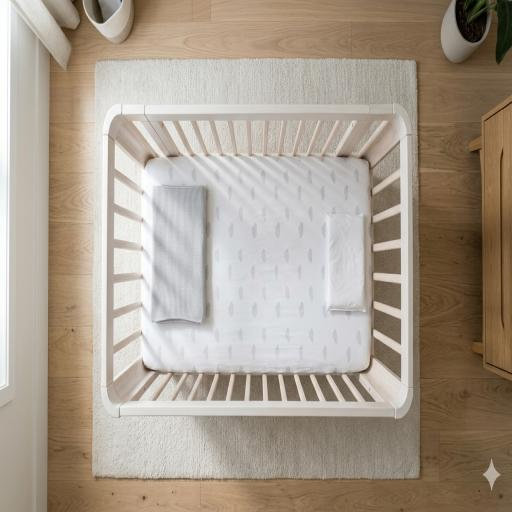crib: (114, 125, 401, 400)
